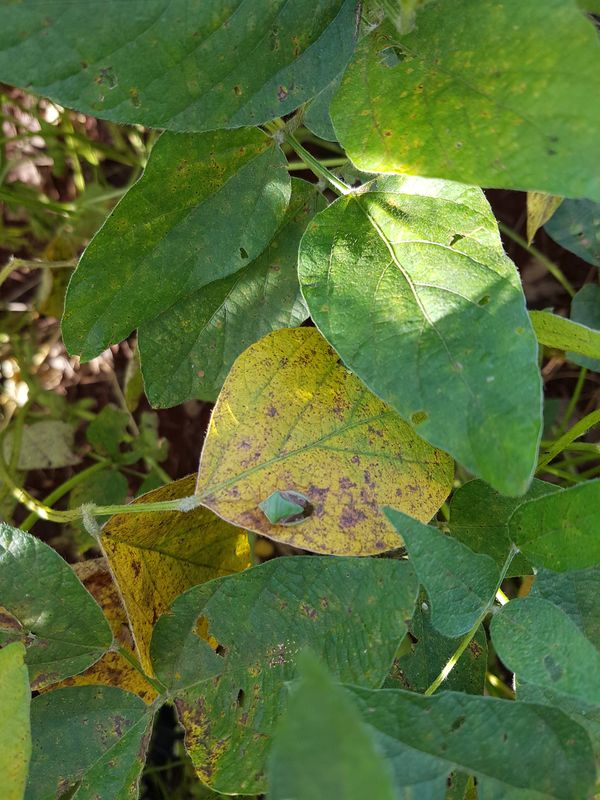Edessa_meditabunda: (247, 480, 325, 537)
